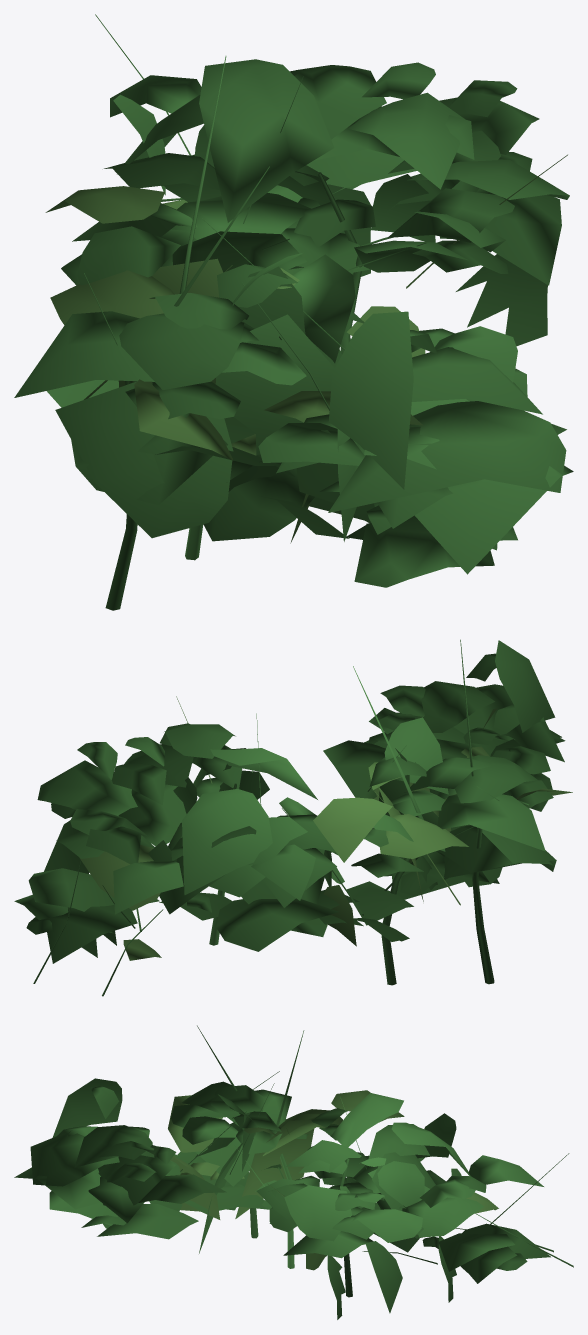
Rendered from forracao_1.glb.
3 views of the same model, one above another, from view 1: azimuth 30°, elevation 25°; view 2: azimuth 150°, elevation 25°; view 3: azimuth 270°, elevation 25° (orthographic). The views are drawn at different scales.
Parts seen in each view (by area): view 1: forracao_1; view 2: forracao_1; view 3: forracao_1.
Boxes of the visible parts, x1,y1,x2,y2 form: forracao_1: (14, 14, 573, 610); forracao_1: (14, 639, 572, 996); forracao_1: (14, 1025, 573, 1319).
Bounding box in the file's own units: 0.5871 × 0.4171 × 0.8491.
